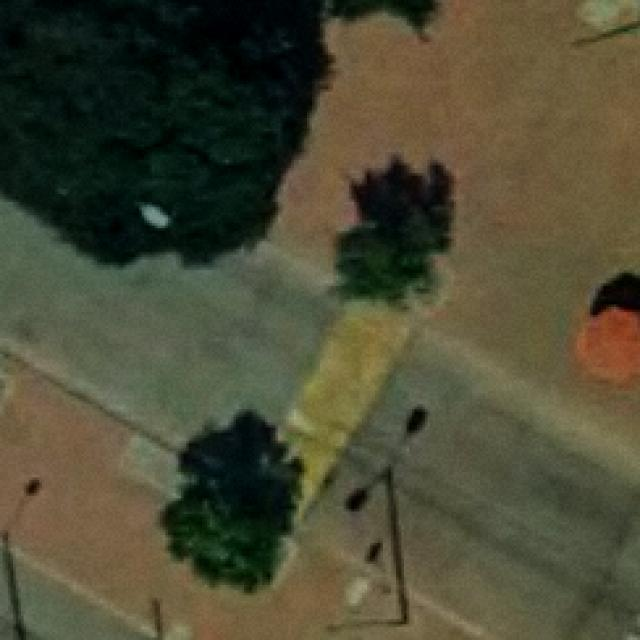vendedor_ambulante: (572, 294, 640, 391)
